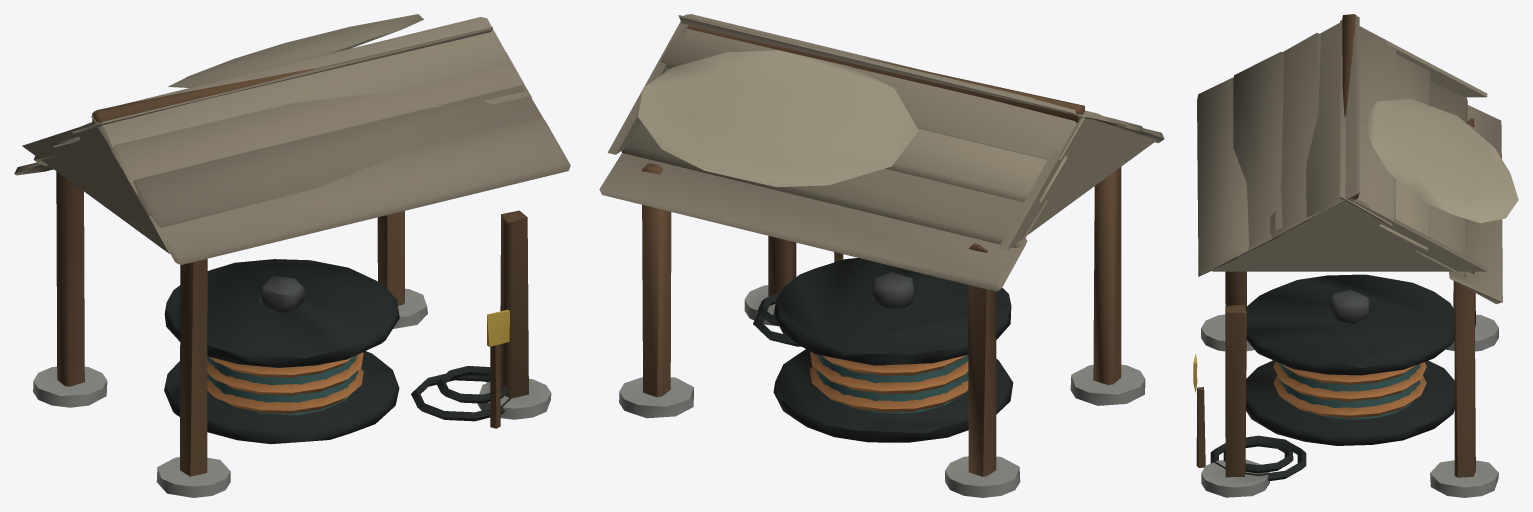
The model's file is spool_shed_b_lod1.glb.
3 views of the same model, side by side, from view 1: azimuth 30°, elevation 25°; view 2: azimuth 150°, elevation 25°; view 3: azimuth 270°, elevation 25° (orthographic). The views are drawn at different scales.
Parts seen in each view (by area): view 1: Surface.001; view 2: Surface.001; view 3: Surface.001.
Boxes of the visible parts, left/top/right/bottom form: Surface.001: left=14, top=14, right=570, bottom=497; Surface.001: left=599, top=14, right=1164, bottom=497; Surface.001: left=1193, top=14, right=1518, bottom=497.
Bounding box in the file's own units: 3.71 × 2.98 × 2.84.
